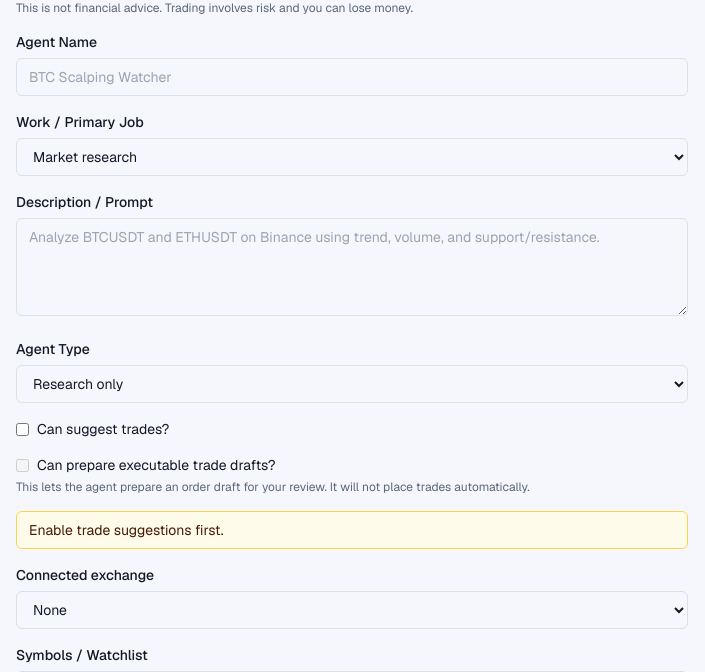
Test: CreateAgentForm executable trades › shows safety confirmations when executable drafts are checked
The width and height of the screenshot is (705, 672).
Click the checkbox labelled "Can suggest trades?".
click(22, 429)  # box x1=16 y1=422 x2=29 y2=436
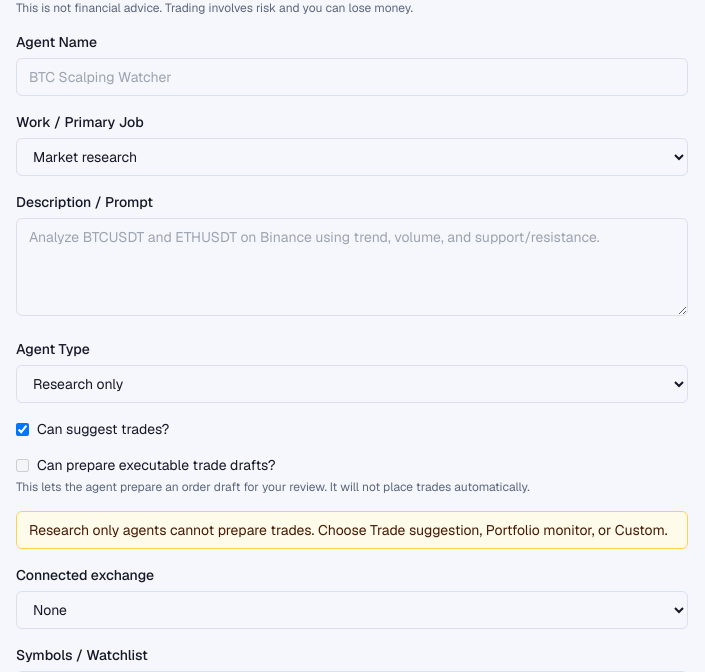
Select "Trade suggestion" in the dropdown labelled "Agent Type" at (352,384), box x1=16 y1=365 x2=688 y2=403
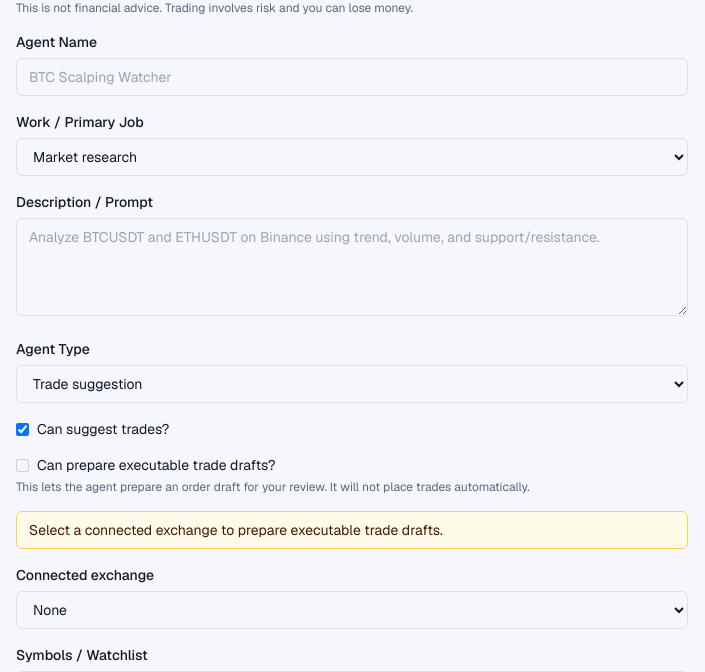
Select "Binance - spider" in the dropdown labelled "Connected exchange" at (352,610), box x1=16 y1=591 x2=688 y2=629
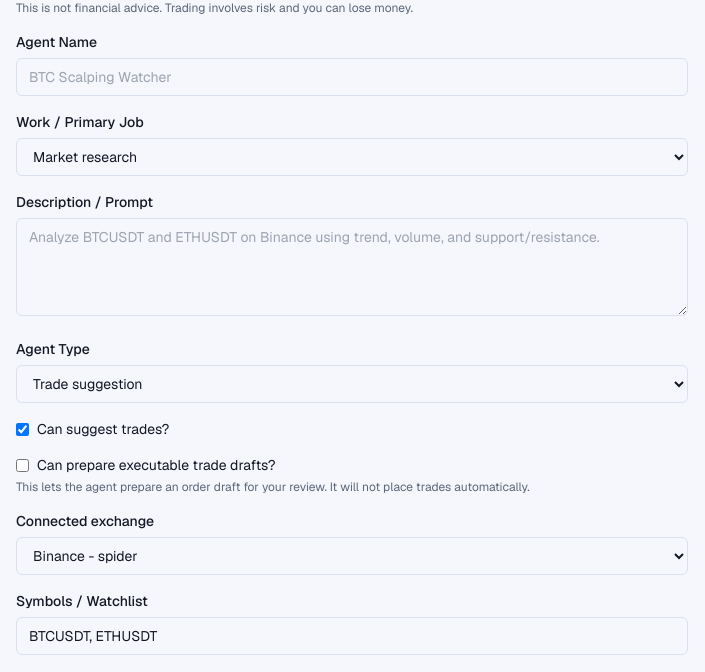
Click the checkbox labelled "Can prepare executable trade drafts?".
click(22, 465)  # box x1=16 y1=458 x2=29 y2=472
(page scrolled)
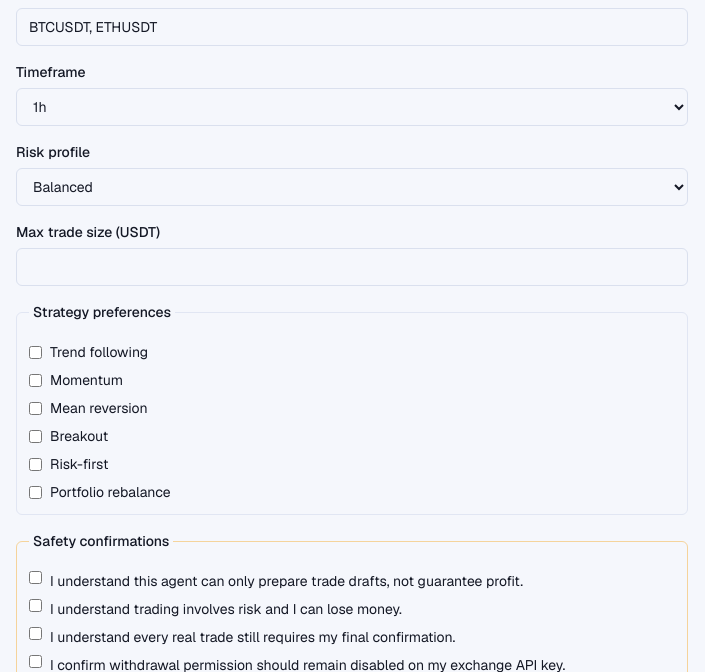
Check: the text "only prepare trade drafts, not guarantee profit" is shown, box x1=50 y1=572 x2=523 y2=590
